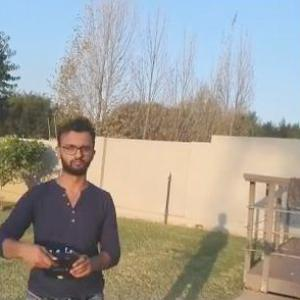follow: (0, 111, 132, 299)
